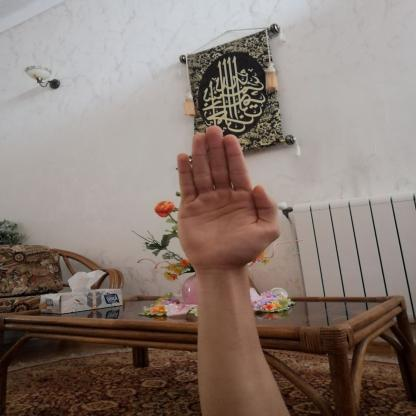SEEN: (162, 119, 289, 274)
